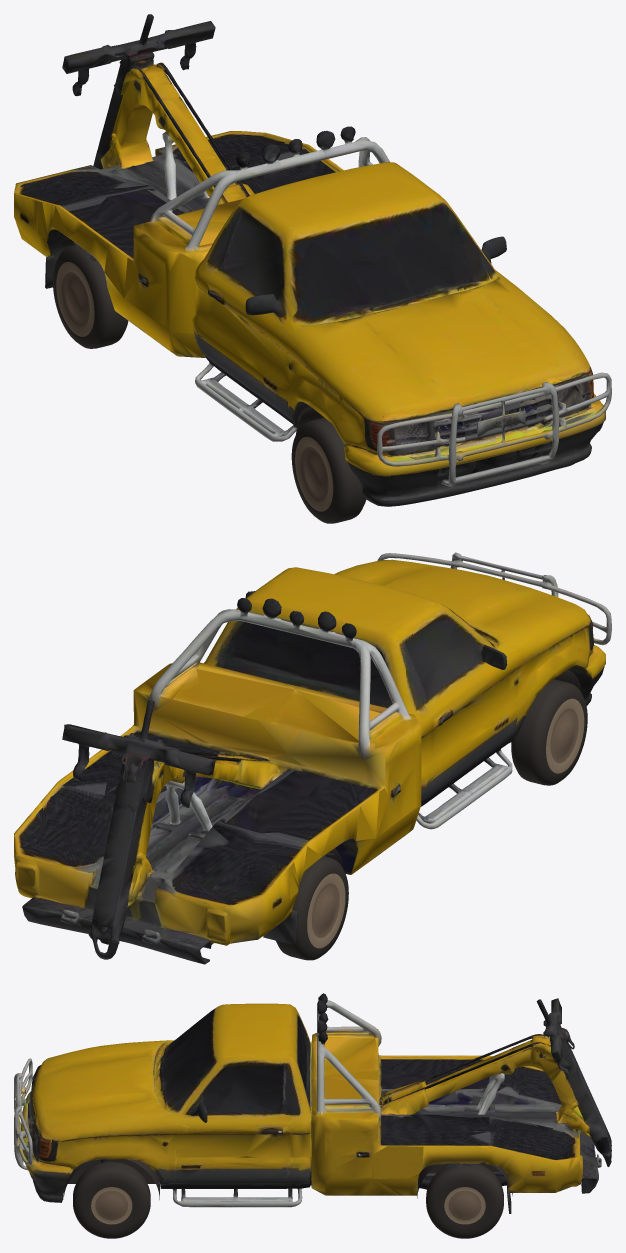
The model's file is VEH_M_GoldTowRig_Drive.glb.
3 views of the same model, one above another, from view 1: azimuth 30°, elevation 25°; view 2: azimuth 150°, elevation 25°; view 3: azimuth 270°, elevation 25° (orthographic). The views are drawn at different scales.
Visible parts, largest first — view 1: VEH_M_GoldTowRig, Wheel_FR, Wheel_RR; view 2: VEH_M_GoldTowRig, Wheel_FR, Wheel_RR; view 3: VEH_M_GoldTowRig, Wheel_FL, Wheel_RL, Liner_Wheel_FL, Liner_Wheel_RL.
Part boxes in pixels (box(x1,y1,x2,y2)): VEH_M_GoldTowRig: box(14, 14, 611, 506); Wheel_FR: box(291, 417, 366, 523); Wheel_RR: box(53, 245, 128, 348); VEH_M_GoldTowRig: box(14, 552, 611, 964); Wheel_FR: box(511, 679, 587, 785); Wheel_RR: box(276, 856, 348, 960); VEH_M_GoldTowRig: box(14, 993, 611, 1213); Wheel_FL: box(73, 1161, 150, 1238); Wheel_RL: box(426, 1164, 503, 1238); Liner_Wheel_FL: box(63, 1159, 159, 1199); Liner_Wheel_RL: box(417, 1164, 512, 1198).
Size of the model in its own units: 2.08 by 2.02 by 5.6.
Materials: 4 (1 with a texture image).
